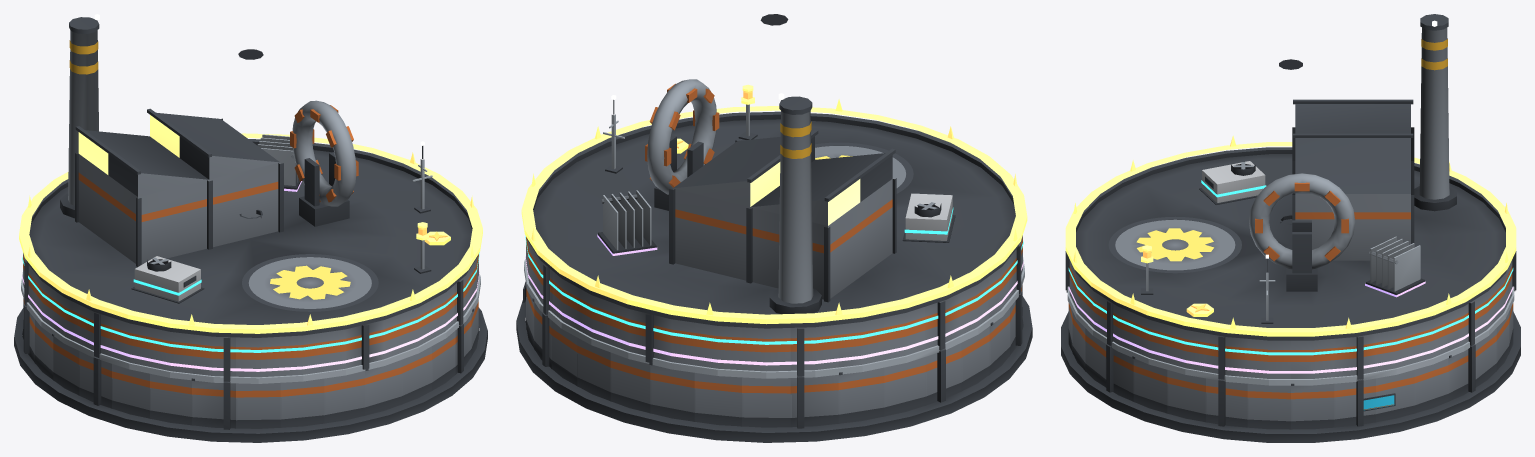
The model's file is magnet_works_s.glb.
3 renders of one model, left to right at view 1: azimuth 30°, elevation 25°; view 2: azimuth 150°, elevation 25°; view 3: azimuth 270°, elevation 25°, orthographic. The views are drawn at different scales.
Visible parts, largest first — view 1: Roof, Base, L3, Wall_22, Wall_21, Wall_20, Wall_19, Wall_23, Wall_18, Wall_24, Upper_20, Upper_21 (+25 smaller); view 2: Roof, Base, L4, Wall_11, Wall_10, Wall_09, Wall_12, L3, Wall_08, Wall_13, Wall_07, Upper_11 (+31 smaller); view 3: Roof, Base, L4, L3, Wall_00, Wall_31, Wall_30, Wall_01, Wall_29, Wall_28, Wall_03, Upper_00 (+25 smaller).
Boxes of the visible parts, left/top/right/bottom form: Roof: left=26, top=14, right=477, bottom=337; Base: left=14, top=307, right=487, bottom=442; L3: left=131, top=210, right=262, bottom=303; Wall_22: left=280, top=378, right=324, bottom=427; Wall_21: left=236, top=383, right=280, bottom=428; Wall_20: left=191, top=378, right=235, bottom=429; Wall_19: left=150, top=373, right=191, bottom=425; Wall_23: left=324, top=371, right=364, bottom=423; Wall_18: left=112, top=364, right=149, bottom=418; Wall_24: left=365, top=360, right=401, bottom=415; Upper_20: left=192, top=334, right=235, bottom=381; Upper_21: left=236, top=336, right=280, bottom=377; Roof: left=527, top=14, right=1018, bottom=328; Base: left=516, top=296, right=1032, bottom=442; L4: left=597, top=190, right=657, bottom=255; Wall_11: left=790, top=375, right=838, bottom=428; Wall_10: left=742, top=377, right=790, bottom=427; Wall_09: left=694, top=373, right=741, bottom=426; Wall_12: left=838, top=367, right=884, bottom=423; L3: left=902, top=193, right=955, bottom=242; Wall_08: left=649, top=363, right=694, bottom=421; Wall_13: left=884, top=357, right=925, bottom=416; Wall_07: left=610, top=352, right=650, bottom=413; Upper_11: left=790, top=324, right=838, bottom=376; Roof: left=1075, top=14, right=1506, bottom=340; Base: left=1061, top=311, right=1520, bottom=442; L4: left=1365, top=236, right=1425, bottom=297; L3: left=1199, top=161, right=1292, bottom=224; Wall_00: left=1291, top=383, right=1334, bottom=429; Wall_31: left=1247, top=383, right=1290, bottom=429; Wall_30: left=1205, top=378, right=1247, bottom=427; Wall_01: left=1334, top=378, right=1375, bottom=427; Wall_29: left=1167, top=370, right=1205, bottom=422; Wall_28: left=1132, top=356, right=1167, bottom=413; Wall_03: left=1414, top=358, right=1448, bottom=413; Upper_00: left=1291, top=339, right=1334, bottom=378.
Size of the model in its own units: 11.74 by 8.09 by 11.74.
